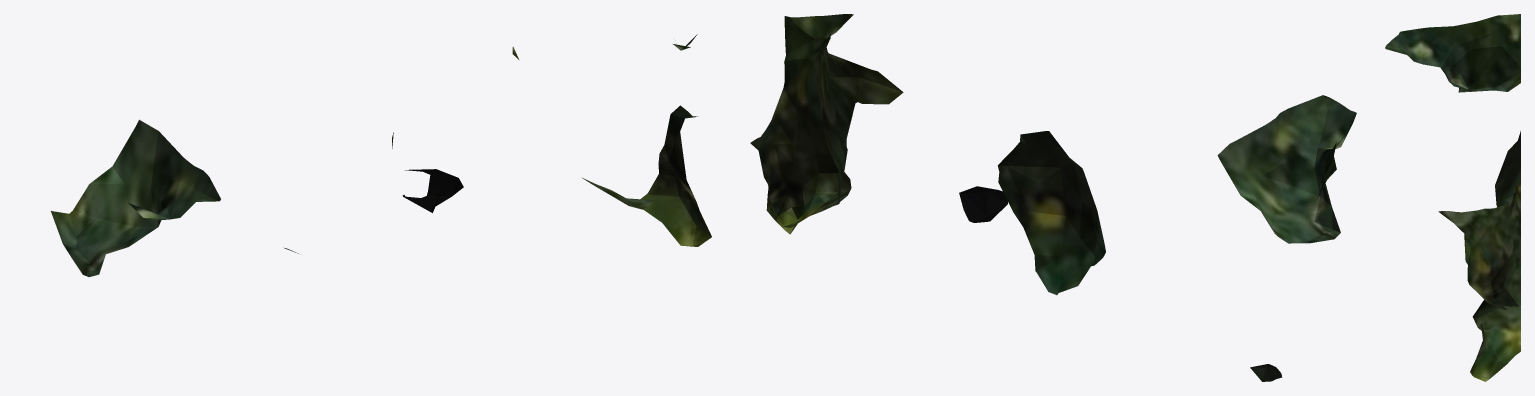
3 views of the same model, side by side, from view 1: azimuth 30°, elevation 25°; view 2: azimuth 150°, elevation 25°; view 3: azimuth 270°, elevation 25° (orthographic). The views are drawn at different scales.
Size of the model in its own units: 1.64 by 0.5863 by 0.4344.
1 material, 1 textured.
